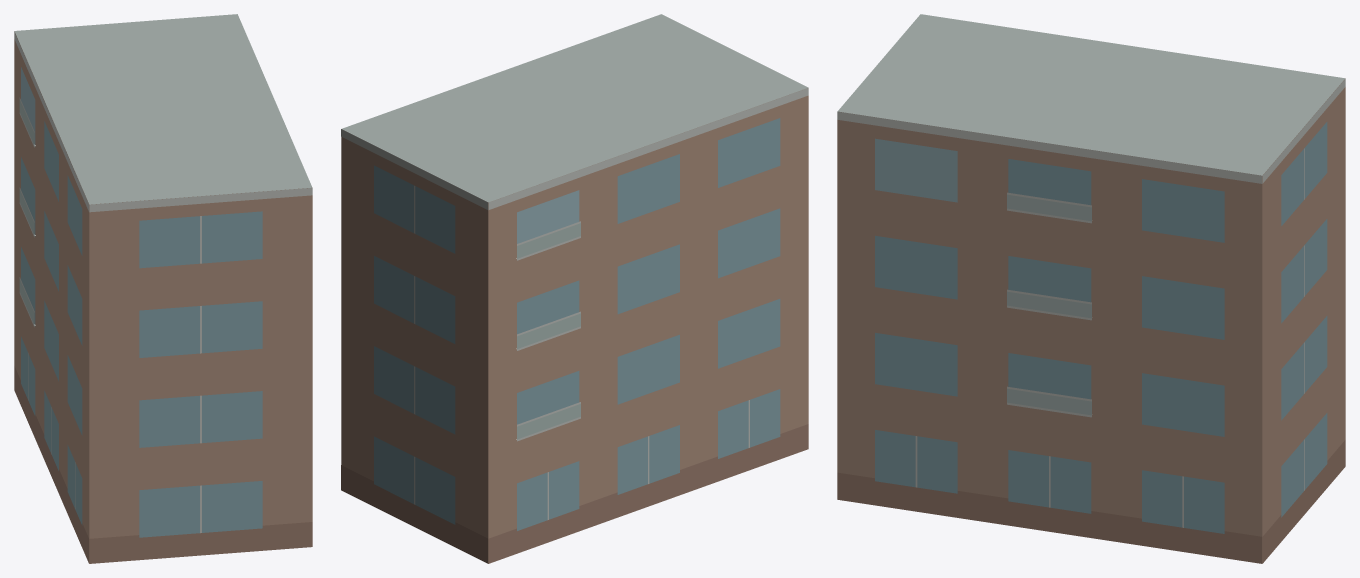
File: survey-upis-32493403.glb
3 views of the same model, side by side, from view 1: azimuth 30°, elevation 25°; view 2: azimuth 150°, elevation 25°; view 3: azimuth 270°, elevation 25° (orthographic). The views are drawn at different scales.
Parts seen in each view (by area): view 1: survey-upis-32493403.tmp; view 2: survey-upis-32493403.tmp; view 3: survey-upis-32493403.tmp.
Boxes of the visible parts, x1=… form: survey-upis-32493403.tmp: x1=14, y1=14, x2=312, y2=563; survey-upis-32493403.tmp: x1=341, y1=14, x2=808, y2=563; survey-upis-32493403.tmp: x1=837, y1=14, x2=1345, y2=563.
Size of the model in its own units: 10.19 by 11.4 by 13.53.
